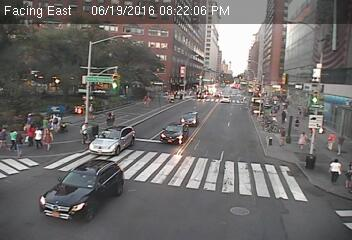neg: (70, 182, 97, 217), (244, 120, 268, 151), (201, 135, 224, 166), (143, 176, 165, 205), (170, 105, 190, 132), (268, 51, 288, 78), (227, 41, 246, 67), (297, 151, 315, 175), (144, 71, 162, 94), (182, 40, 199, 63), (254, 183, 271, 206), (219, 197, 235, 218), (88, 70, 104, 90), (99, 109, 113, 127), (305, 63, 318, 81)
pos: (323, 154, 346, 183), (75, 120, 93, 145), (322, 127, 340, 151), (31, 122, 49, 146), (6, 124, 23, 147), (40, 126, 57, 148), (295, 128, 311, 150), (22, 120, 37, 141)
